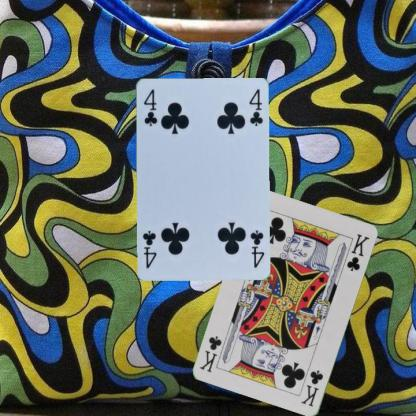4c: (247, 227, 266, 269), (141, 86, 158, 127)
Kc: (298, 368, 324, 409)
